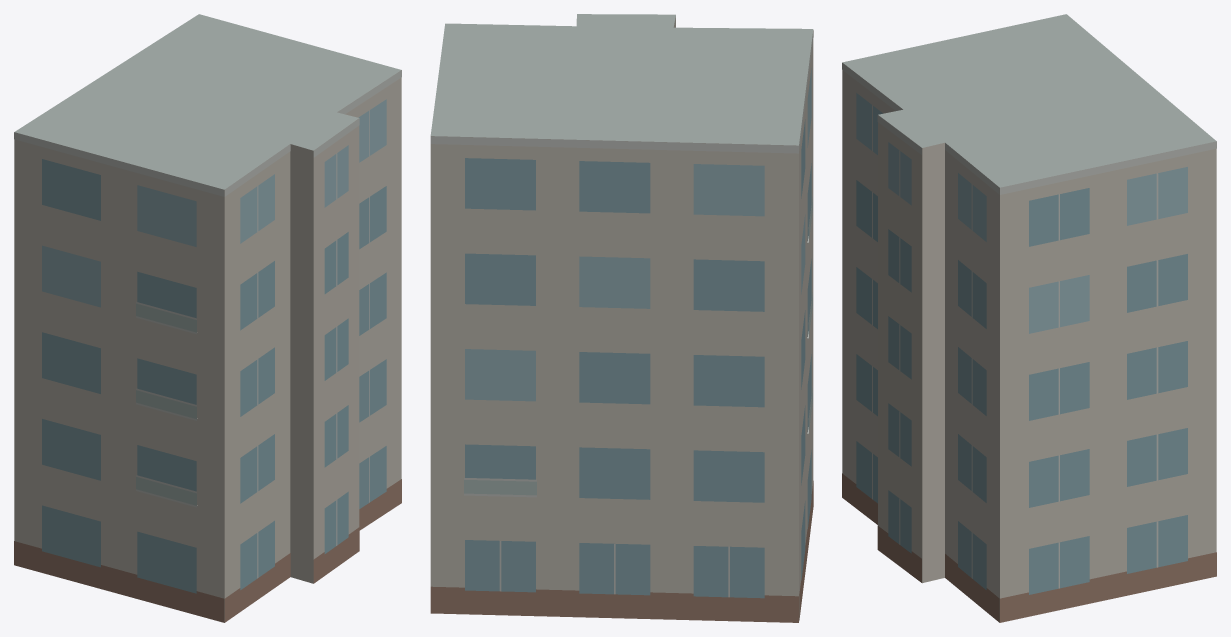
The model's file is survey-upis-32976445.glb.
3 views of the same model, side by side, from view 1: azimuth 30°, elevation 25°; view 2: azimuth 150°, elevation 25°; view 3: azimuth 270°, elevation 25° (orthographic). The views are drawn at different scales.
Visible parts, largest first — view 1: survey-upis-32976445.tmp; view 2: survey-upis-32976445.tmp; view 3: survey-upis-32976445.tmp.
Part boxes in pixels (<box>): survey-upis-32976445.tmp: <box>14,14,401,622</box>; survey-upis-32976445.tmp: <box>430,14,813,622</box>; survey-upis-32976445.tmp: <box>842,14,1216,622</box>.
Size of the model in its own units: 12.42 by 14.5 by 11.32.
